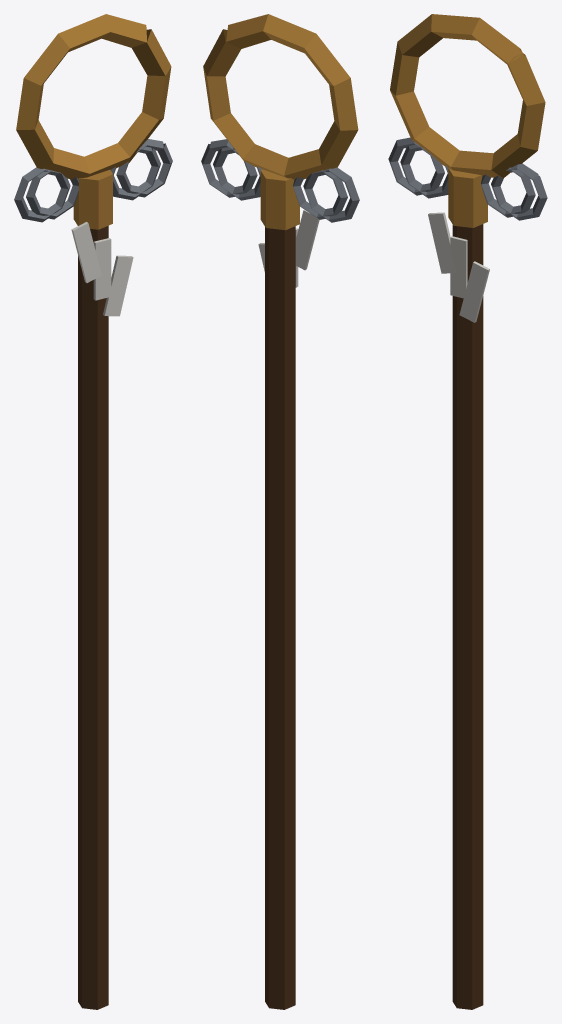
The model's file is weapon_staff.glb.
The picture shows the model from 3 angles, left to right: view 1: azimuth 30°, elevation 25°; view 2: azimuth 150°, elevation 25°; view 3: azimuth 330°, elevation 25°; orthographic projection.
Parts seen in each view (by area): view 1: macaque_weapon_staff; view 2: macaque_weapon_staff; view 3: macaque_weapon_staff.
Boxes of the visible parts, x1,y1,x2,y2 form: macaque_weapon_staff: (14, 14, 172, 1009); macaque_weapon_staff: (201, 14, 359, 1009); macaque_weapon_staff: (388, 14, 547, 1009).
Bounding box in the file's own units: 0.2424 × 1.44 × 0.0525.
